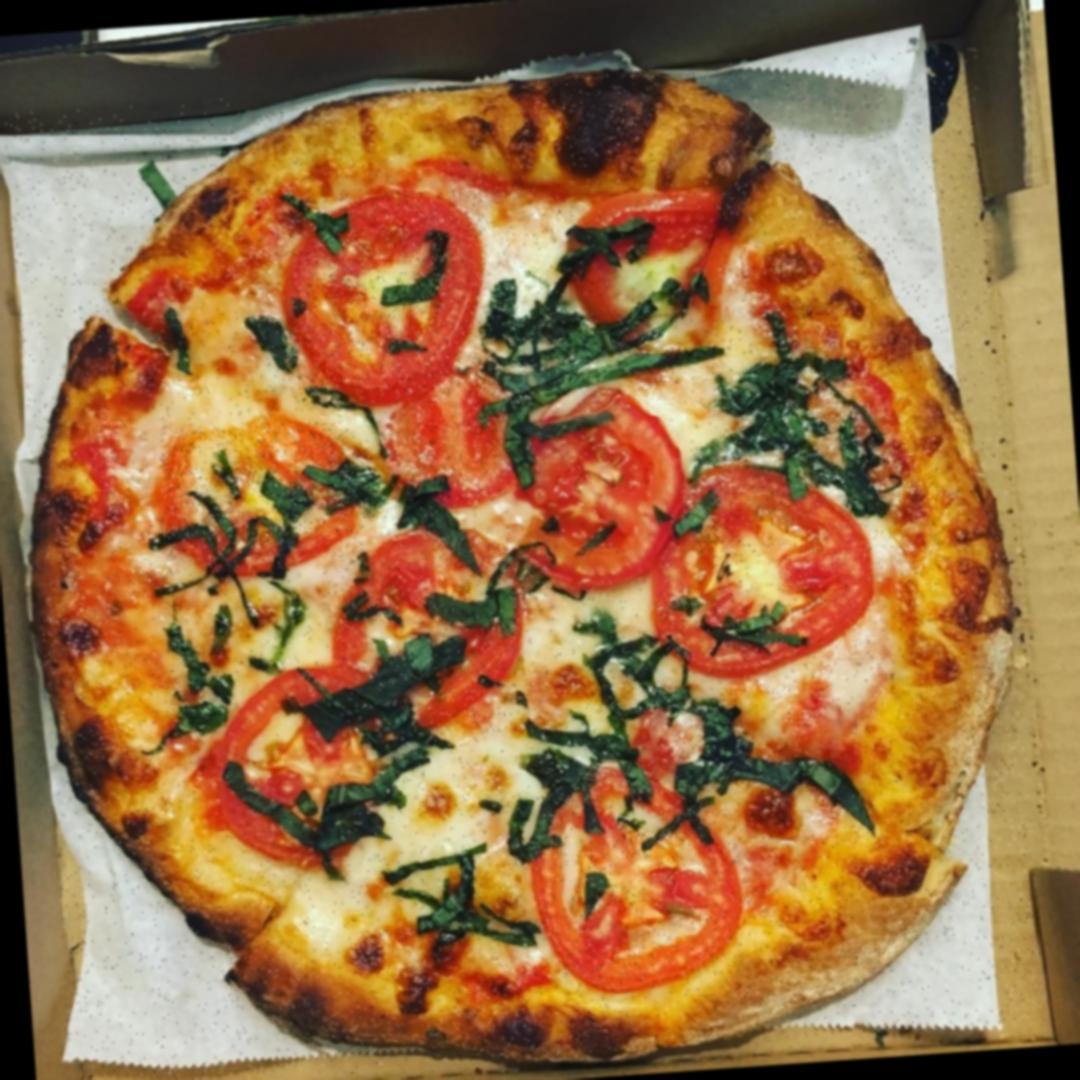Pizza: (4, 46, 1045, 1080)
Tomatoes: (283, 188, 499, 404), (653, 460, 879, 666), (534, 770, 744, 988), (202, 664, 402, 870), (330, 526, 528, 730), (503, 386, 697, 587), (156, 418, 356, 564), (566, 188, 725, 364), (389, 390, 509, 510)
